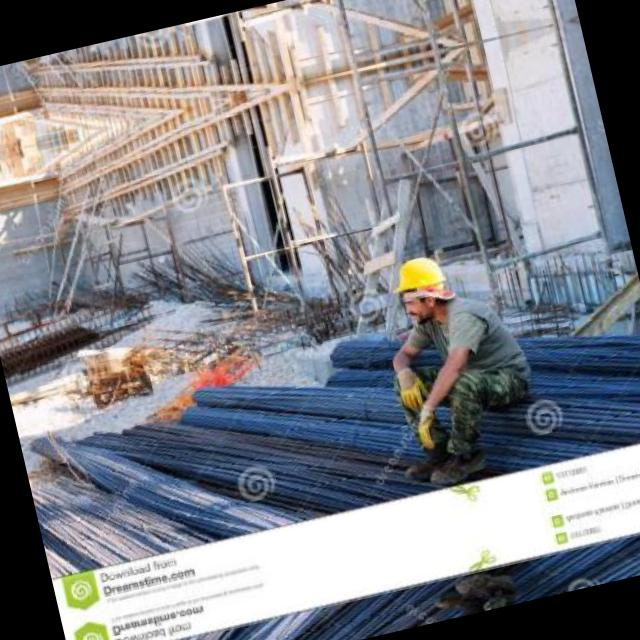helmet: (384, 245, 458, 332)
